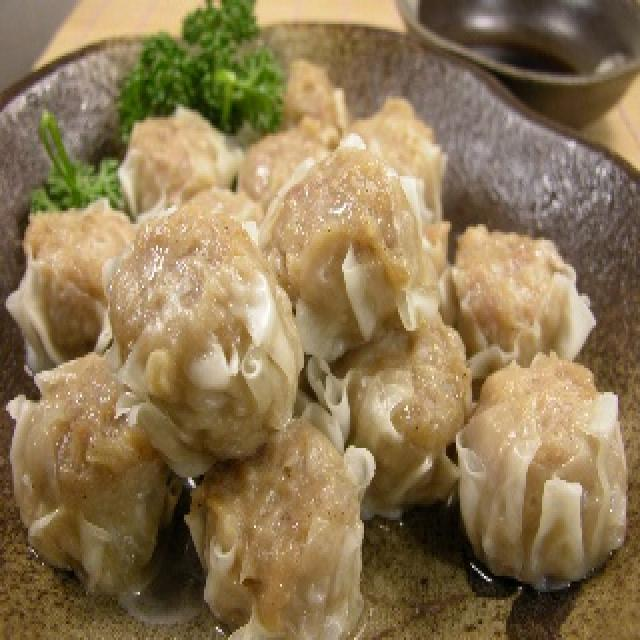带馅早点: (116, 122, 456, 490)
